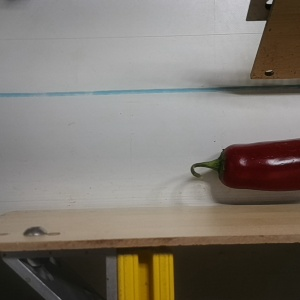Cut Point: (208, 144, 243, 189)
